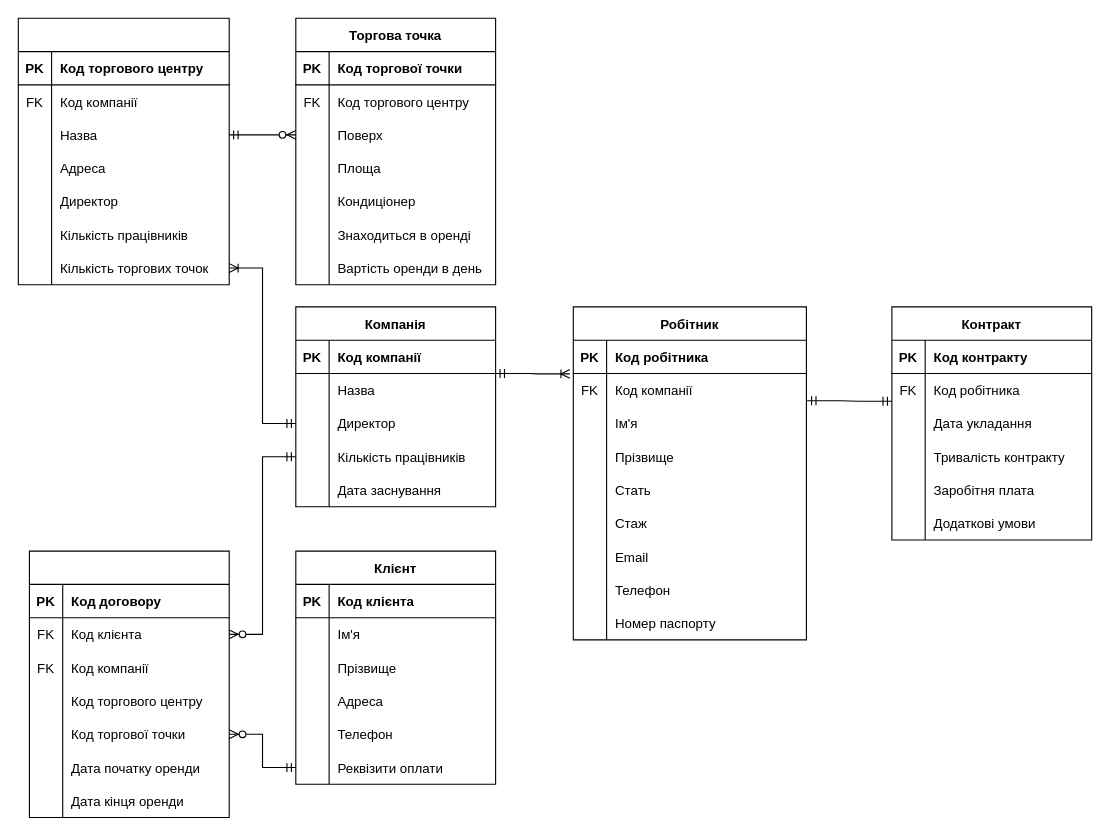
Some shapes in this 1110 by 836 pixel diagram are drawn without their labels. Each missing label, with the box of its shape:
Договір: (28, 550, 229, 818)
Торговий центр: (17, 17, 229, 285)
